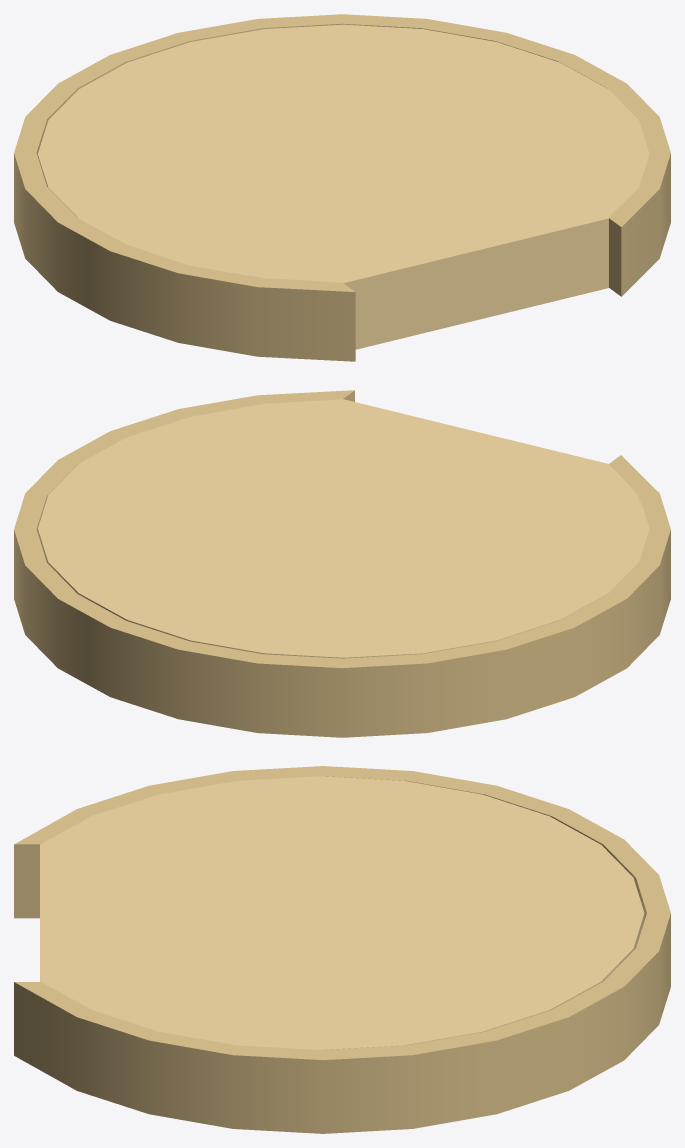
3 renders of one model, top to bottom at view 1: azimuth 30°, elevation 25°; view 2: azimuth 150°, elevation 25°; view 3: azimuth 270°, elevation 25°, orthographic. The views are drawn at different scales.
Visible parts, largest first — view 1: final; view 2: final; view 3: final.
Part boxes in pixels (x1,y1,x2,y2): final: [14, 14, 670, 361]; final: [14, 390, 670, 737]; final: [14, 766, 670, 1133].
Bounding box in the file's own units: 21.85 × 2.55 × 20.62.
